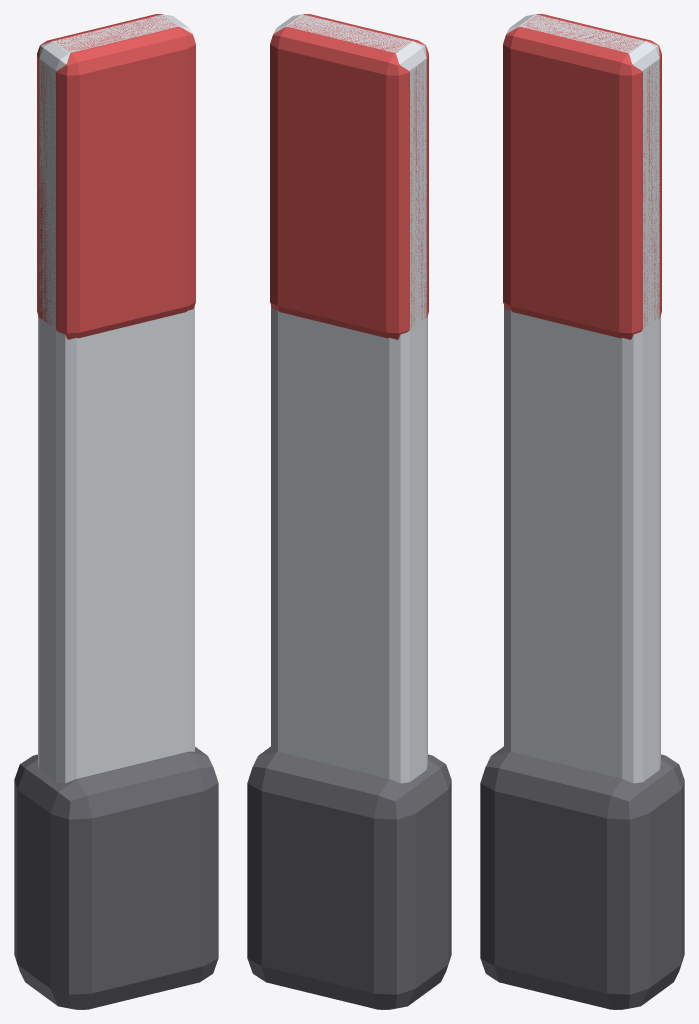
File: нож.glb
3 renders of one model, left to right at view 1: azimuth 30°, elevation 25°; view 2: azimuth 150°, elevation 25°; view 3: azimuth 330°, elevation 25°, orthographic.
Parts seen in each view (by area): view 1: нож; view 2: нож; view 3: нож.
Boxes of the visible parts, left/top/right/bottom form: нож: left=14, top=14, right=218, bottom=1009; нож: left=247, top=14, right=451, bottom=1009; нож: left=480, top=14, right=684, bottom=1009.
Size of the model in its own units: 0.06 by 0.33 by 0.04.
